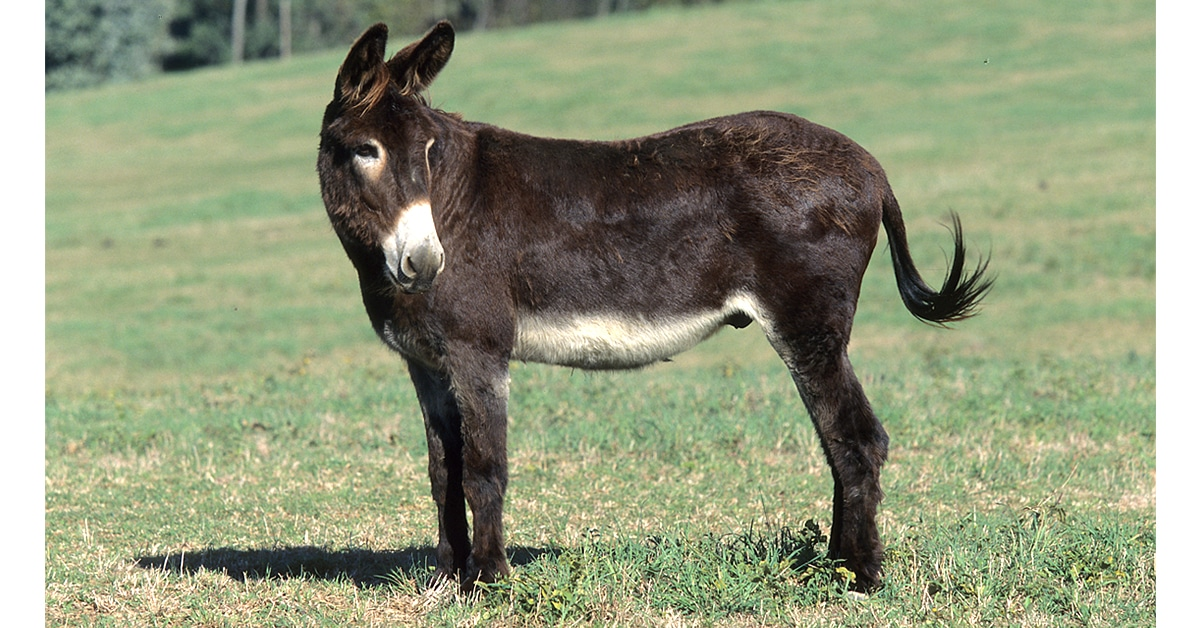donkey: (315, 21, 992, 592)
